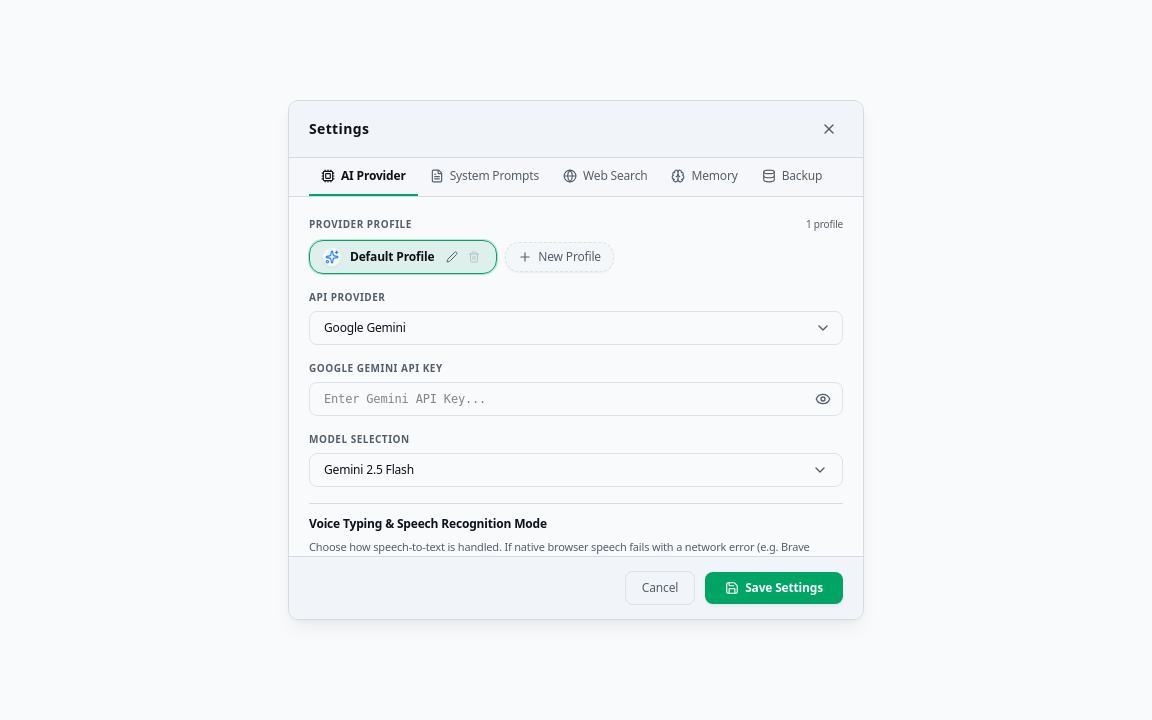
Scenario: SettingsModal Component › deletes active profile when delete button is clicked
What coordinates should you click on to do the following:
click the button "New Profile"
I would click on:
 (560, 257)
Its box is top-left (505, 242), bottom-right (614, 272).
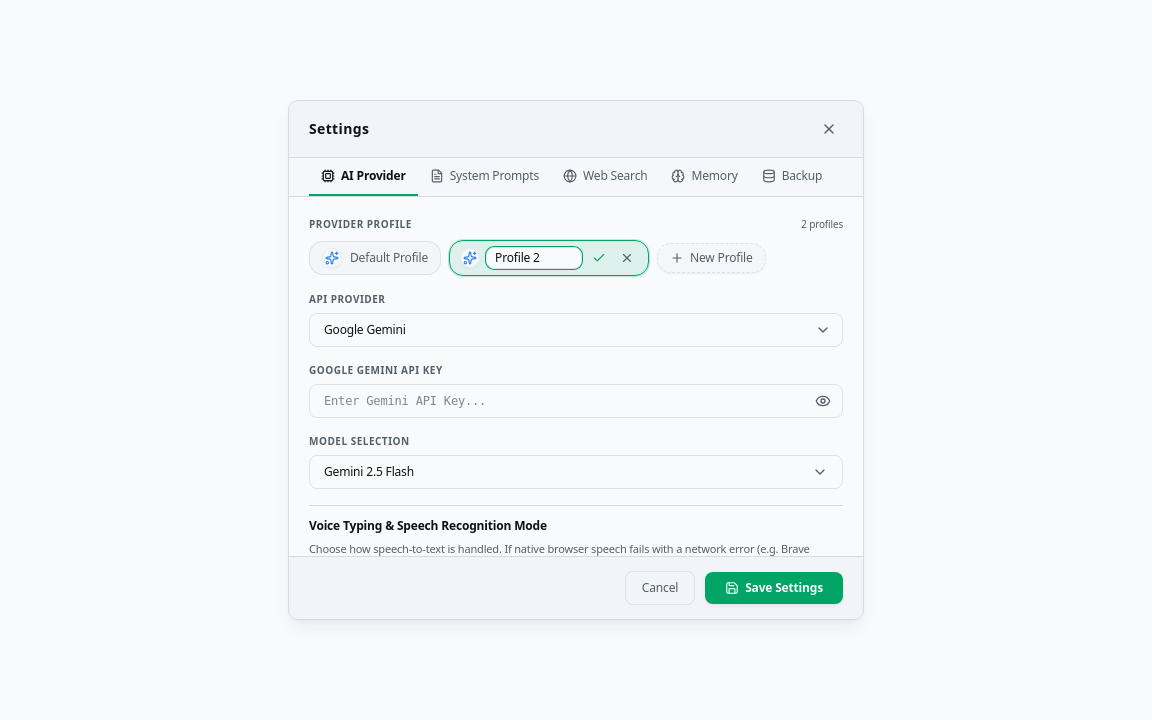
What coordinates should you click on to do the following:
click the button titled "Save name"
I would click on:
 (599, 258)
Its box is top-left (588, 247), bottom-right (610, 269).
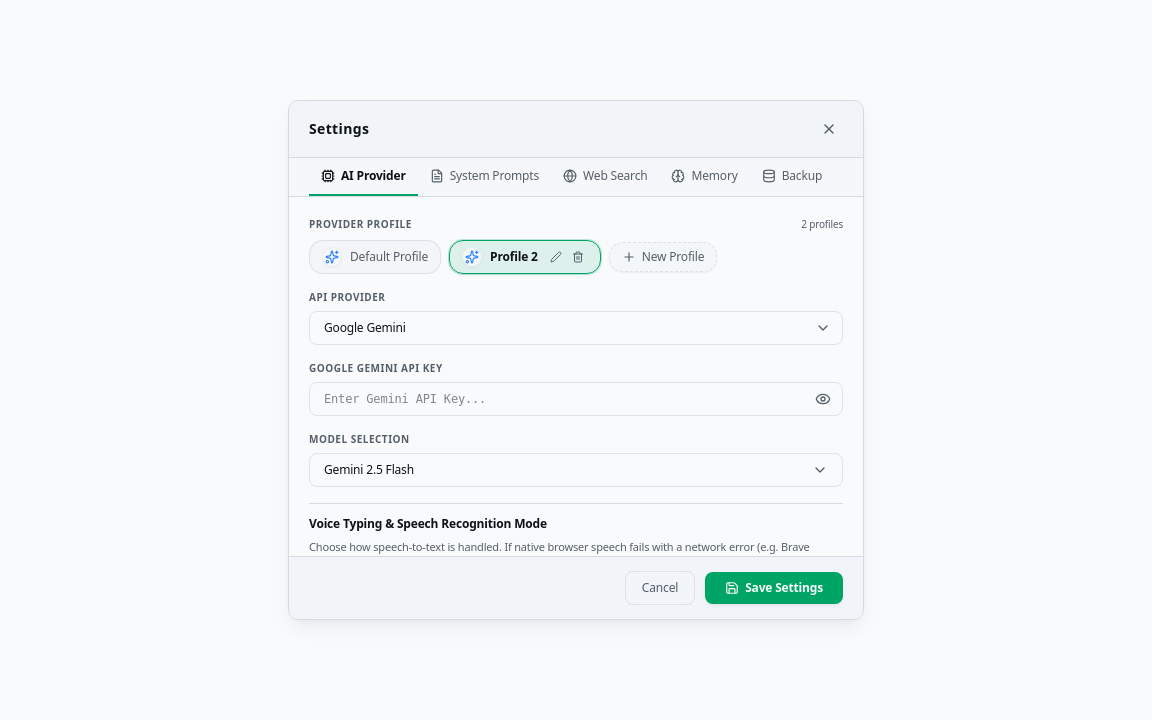
What coordinates should you click on to do the following:
click the button titled "Delete profile"
I would click on:
 (578, 257)
Its box is top-left (568, 247), bottom-right (588, 267).
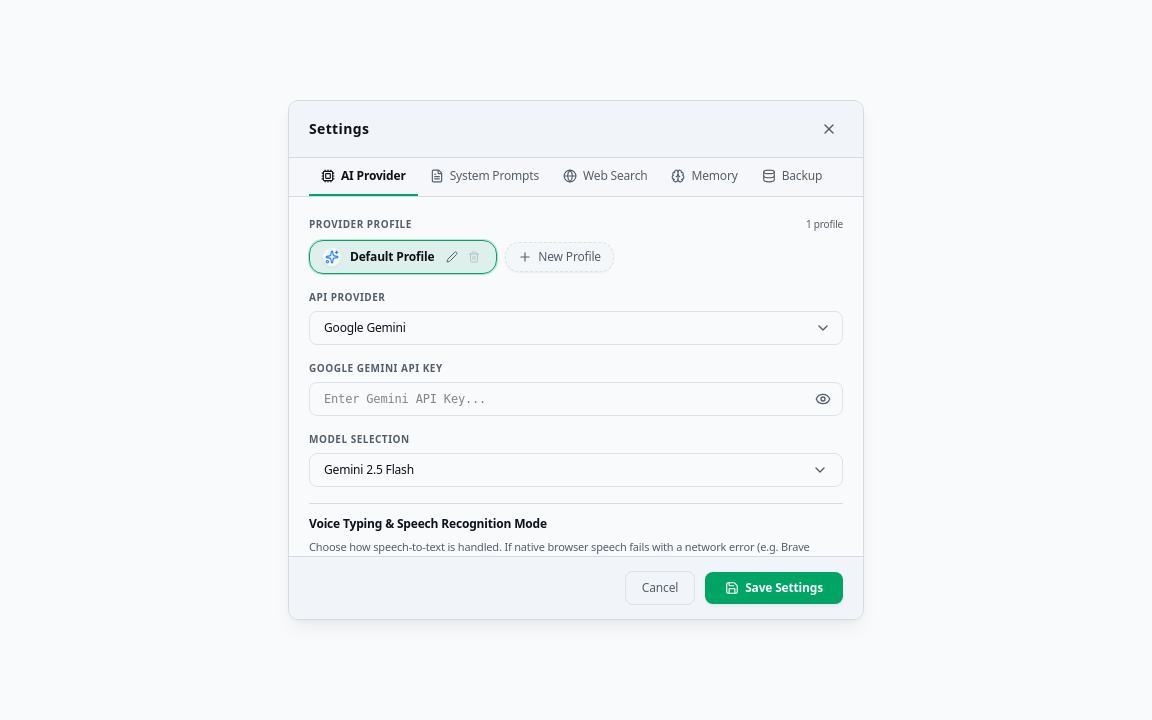
expect the text "Default Profile" is shown: met, box top-left (350, 249), bottom-right (434, 265)
expect the text "Profile 2" is gone: met
